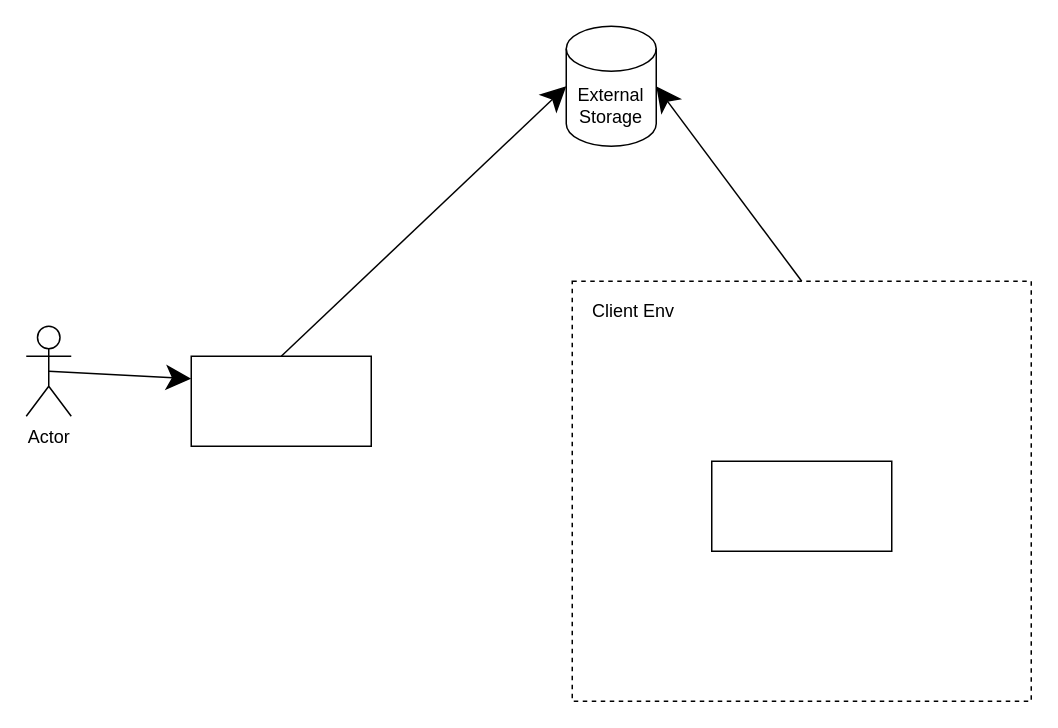
Image size: 1058x728. Some labels were removed from this diagram. Each missing label, with the centre of its shape:
"Windows/Linux server" goes at point 801,505.
"Work Station" goes at point 280,400.
